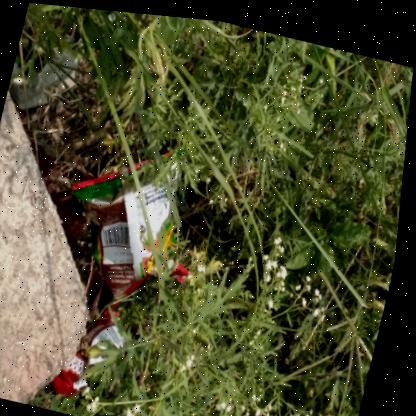Plastic: (75, 143, 194, 317), (57, 308, 130, 393), (9, 36, 78, 109)
